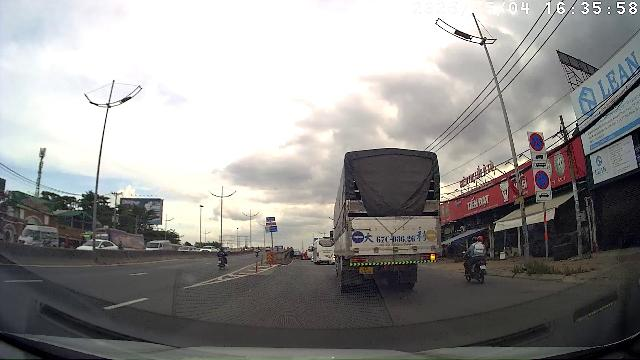130-cam-dung-va-do-xe: (530, 133, 544, 152)
131a-cam-do-xe: (535, 170, 549, 190)
